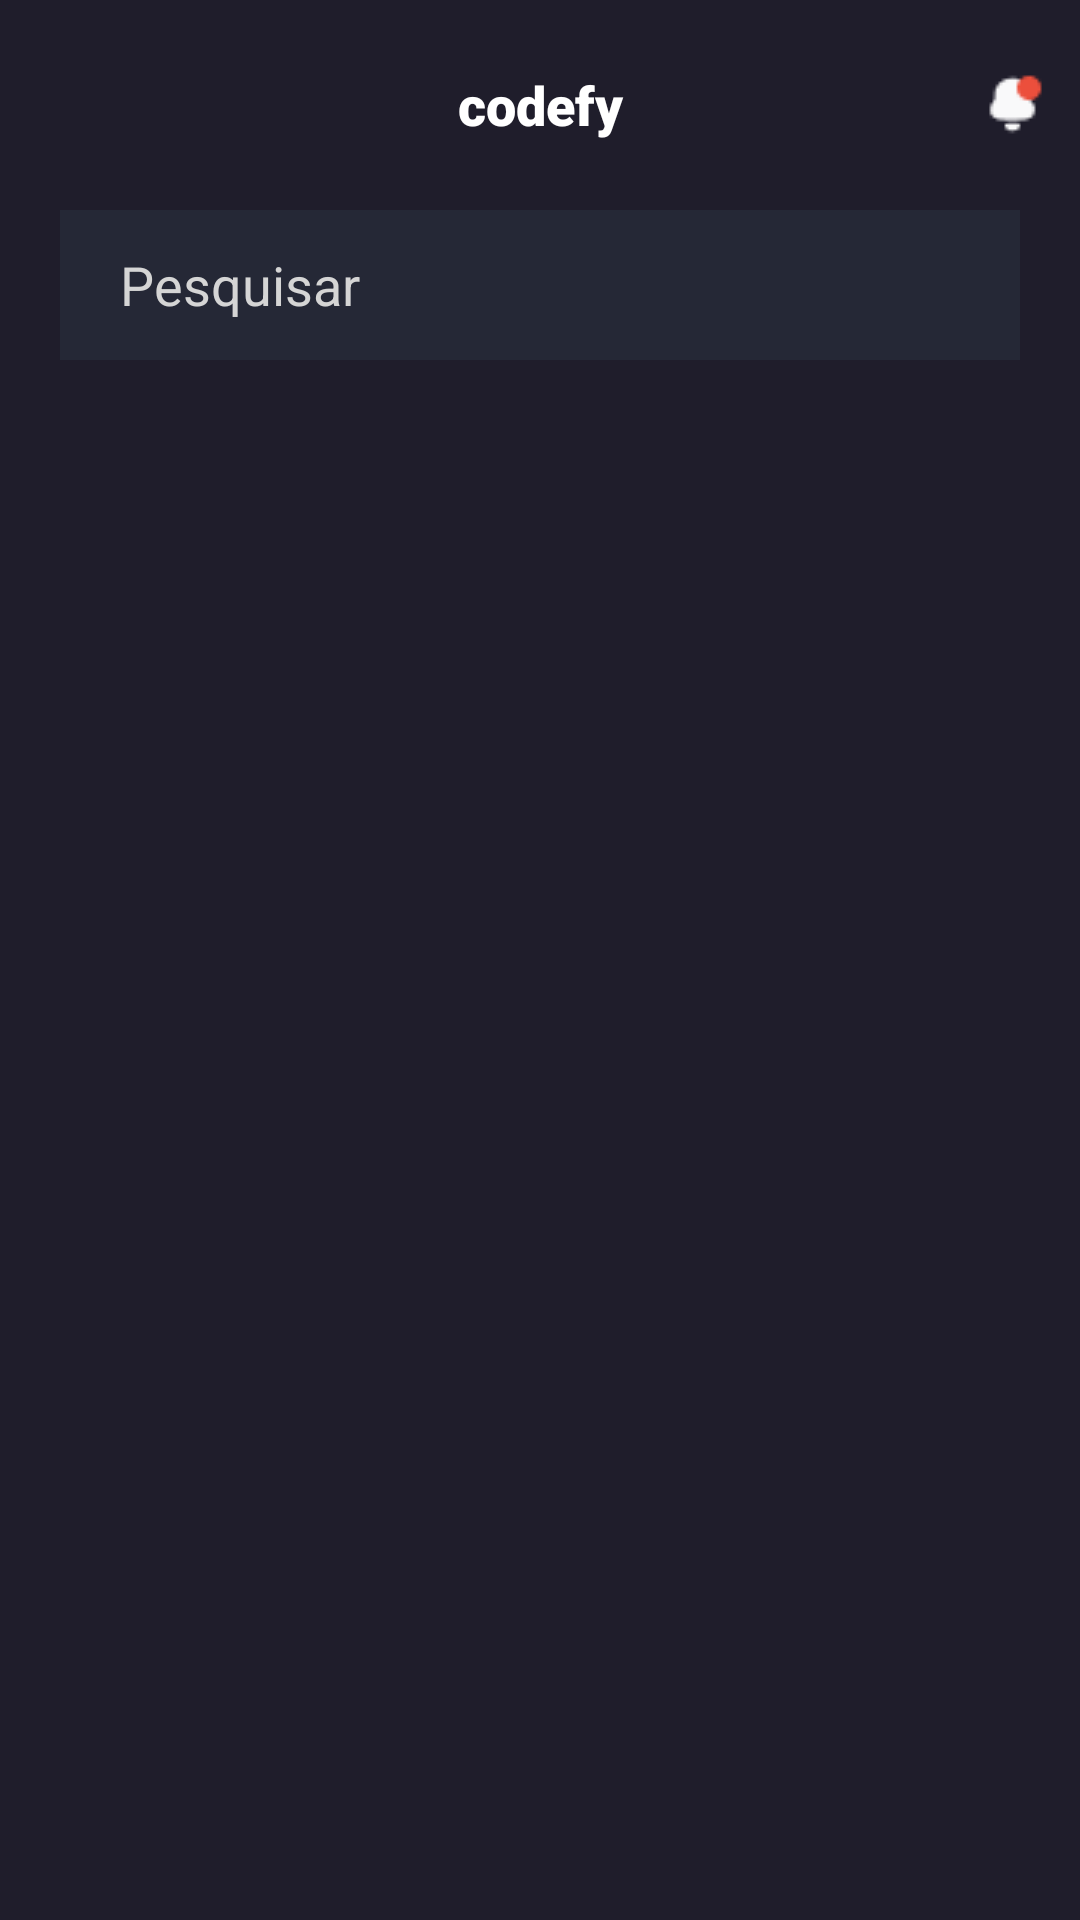

Named icons in this screenshot (1080*1920) and their bounding boxes, (x1, y1, x2, y2):
sino: (989, 75, 1042, 133)
